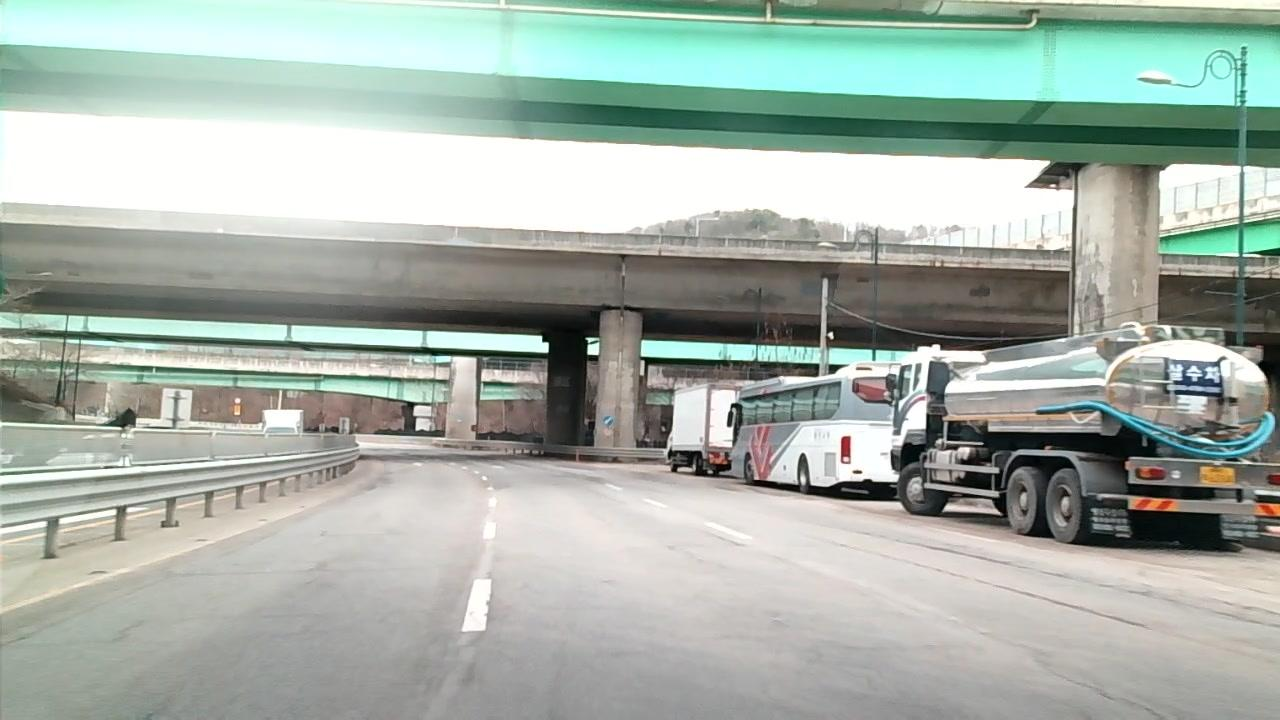hcrack: (173, 567, 316, 575)
vcrack: (1036, 657, 1170, 718), (1031, 594, 1149, 629), (908, 561, 1025, 595), (4, 616, 73, 648), (902, 538, 990, 560), (836, 539, 899, 559), (109, 620, 146, 644), (1030, 569, 1073, 579)
